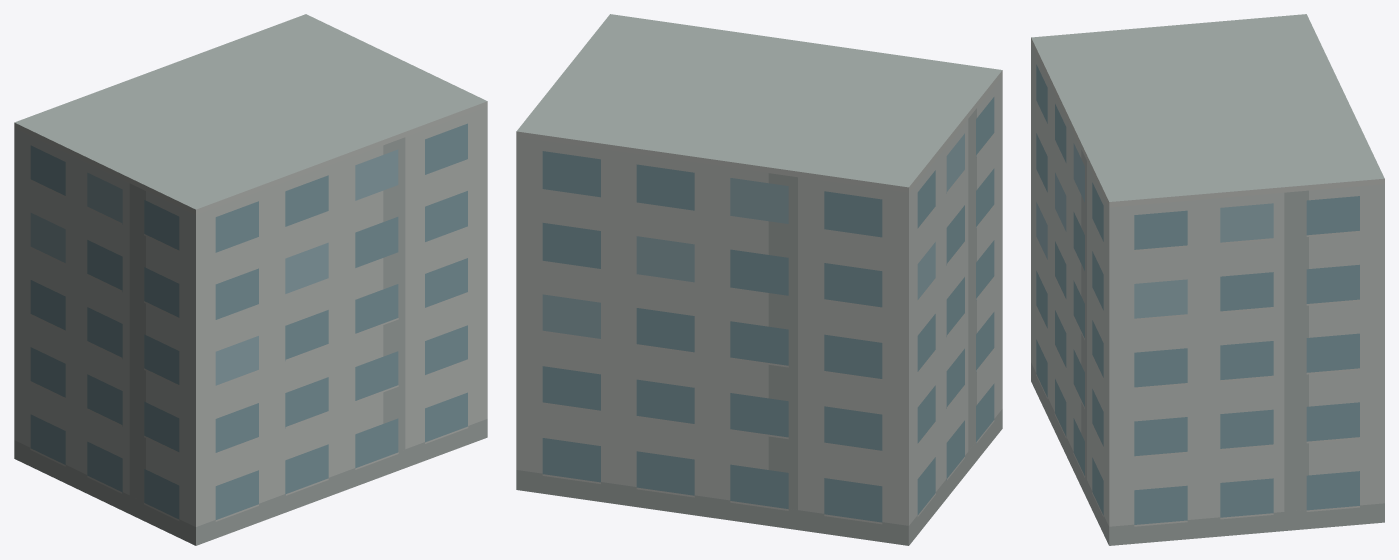
Rendered from residential-278c919f-fb9b-4247-a977-da2a601ceae5.glb.
3 renders of one model, left to right at view 1: azimuth 30°, elevation 25°; view 2: azimuth 150°, elevation 25°; view 3: azimuth 270°, elevation 25°, orthographic. The views are drawn at different scales.
Parts seen in each view (by area): view 1: residential-278c919f-fb9b-4247-a977-da2a601ceae5.tmp; view 2: residential-278c919f-fb9b-4247-a977-da2a601ceae5.tmp; view 3: residential-278c919f-fb9b-4247-a977-da2a601ceae5.tmp.
Part boxes in pixels (x1=…): residential-278c919f-fb9b-4247-a977-da2a601ceae5.tmp: x1=14, y1=14, x2=487, y2=545; residential-278c919f-fb9b-4247-a977-da2a601ceae5.tmp: x1=516, y1=14, x2=1002, y2=545; residential-278c919f-fb9b-4247-a977-da2a601ceae5.tmp: x1=1031, y1=14, x2=1384, y2=545.
Bounding box in the file's own units: 17.89 × 15.25 × 14.23.
